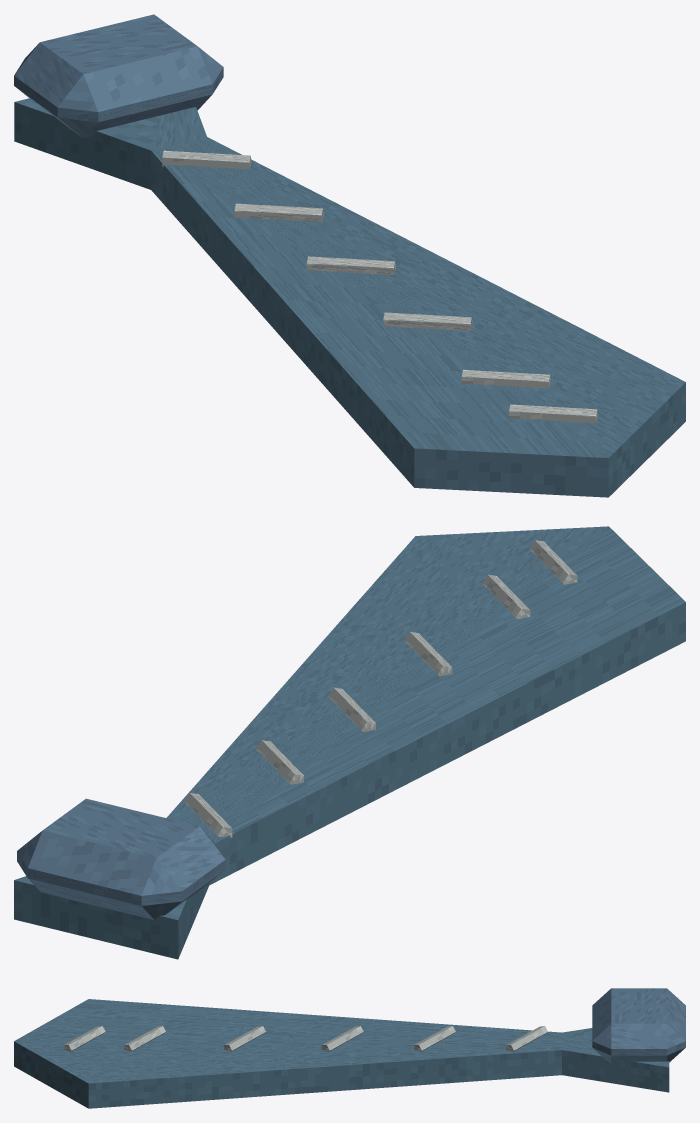
Rendered from tie_clipon.glb.
3 renders of one model, top to bottom at view 1: azimuth 30°, elevation 25°; view 2: azimuth 150°, elevation 25°; view 3: azimuth 270°, elevation 25°, orthographic. The views are drawn at different scales.
Visible parts, largest first — view 1: block_tapered necktie, block_clip-on knot, block_silver diagonal stripe 0 (×6); view 2: block_tapered necktie, block_clip-on knot, block_silver diagonal stripe 0 (×6); view 3: block_tapered necktie, block_clip-on knot, block_silver diagonal stripe 0 (×6).
Boxes of the visible parts, x1=… form: block_tapered necktie: x1=14, y1=98, x2=685, y2=497; block_clip-on knot: x1=14, y1=14, x2=223, y2=138; block_silver diagonal stripe 0 (×6): x1=162, y1=150, x2=598, y2=422; block_tapered necktie: x1=14, y1=526, x2=685, y2=959; block_clip-on knot: x1=17, y1=798, x2=225, y2=919; block_silver diagonal stripe 0 (×6): x1=184, y1=540, x2=577, y2=838; block_tapered necktie: x1=14, y1=999, x2=669, y2=1108; block_clip-on knot: x1=592, y1=988, x2=685, y2=1064; block_silver diagonal stripe 0 (×6): x1=63, y1=1026, x2=547, y2=1051.
Size of the model in its own units: 0.023 by 0.00768 by 0.0774.
Materials: 1 (1 with a texture image).
